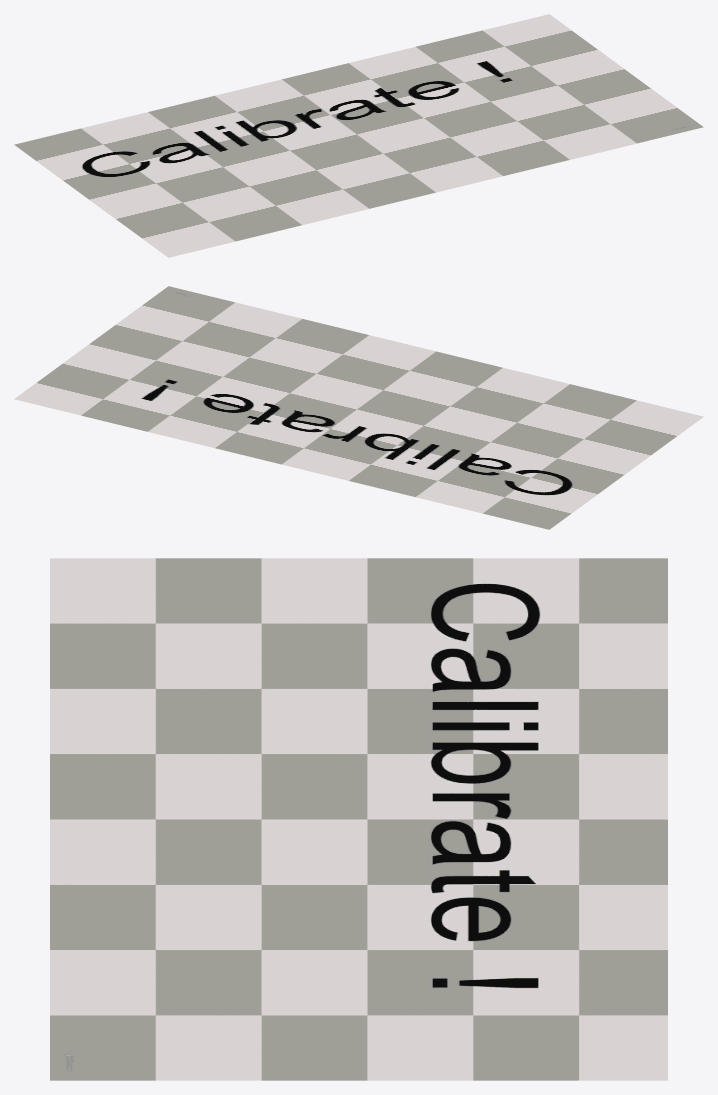
Rendered from 1-calibrate_message.obj.
3 views of the same model, one above another, from view 1: azimuth 30°, elevation 25°; view 2: azimuth 150°, elevation 25°; view 3: azimuth 270°, elevation 25° (orthographic). The views are drawn at different scales.
Visible parts, largest first — view 1: 1-Calibrate Message; view 2: 1-Calibrate Message; view 3: 1-Calibrate Message.
Boxes of the visible parts, left/top/right/bottom form: 1-Calibrate Message: left=14, top=14, right=703, bottom=257; 1-Calibrate Message: left=14, top=286, right=703, bottom=529; 1-Calibrate Message: left=50, top=558, right=667, bottom=1080.
Bounding box in the file's own units: 2 × 0 × 1.
Materials: 1 (1 with a texture image).
